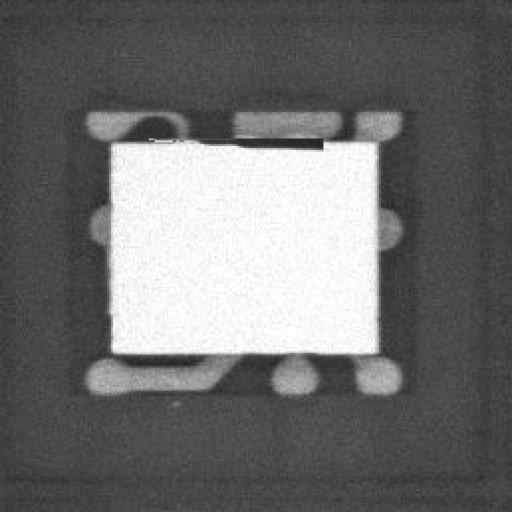DIE_BROKEN: (188, 129, 332, 152)
